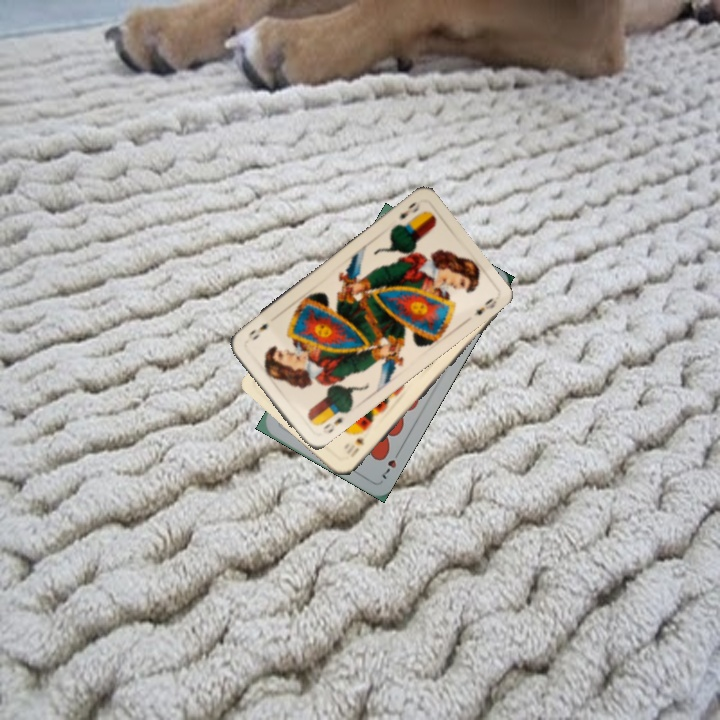EO: (395, 197, 423, 222), (319, 412, 345, 436)
H7: (378, 446, 403, 482)
S10: (346, 434, 366, 460)
